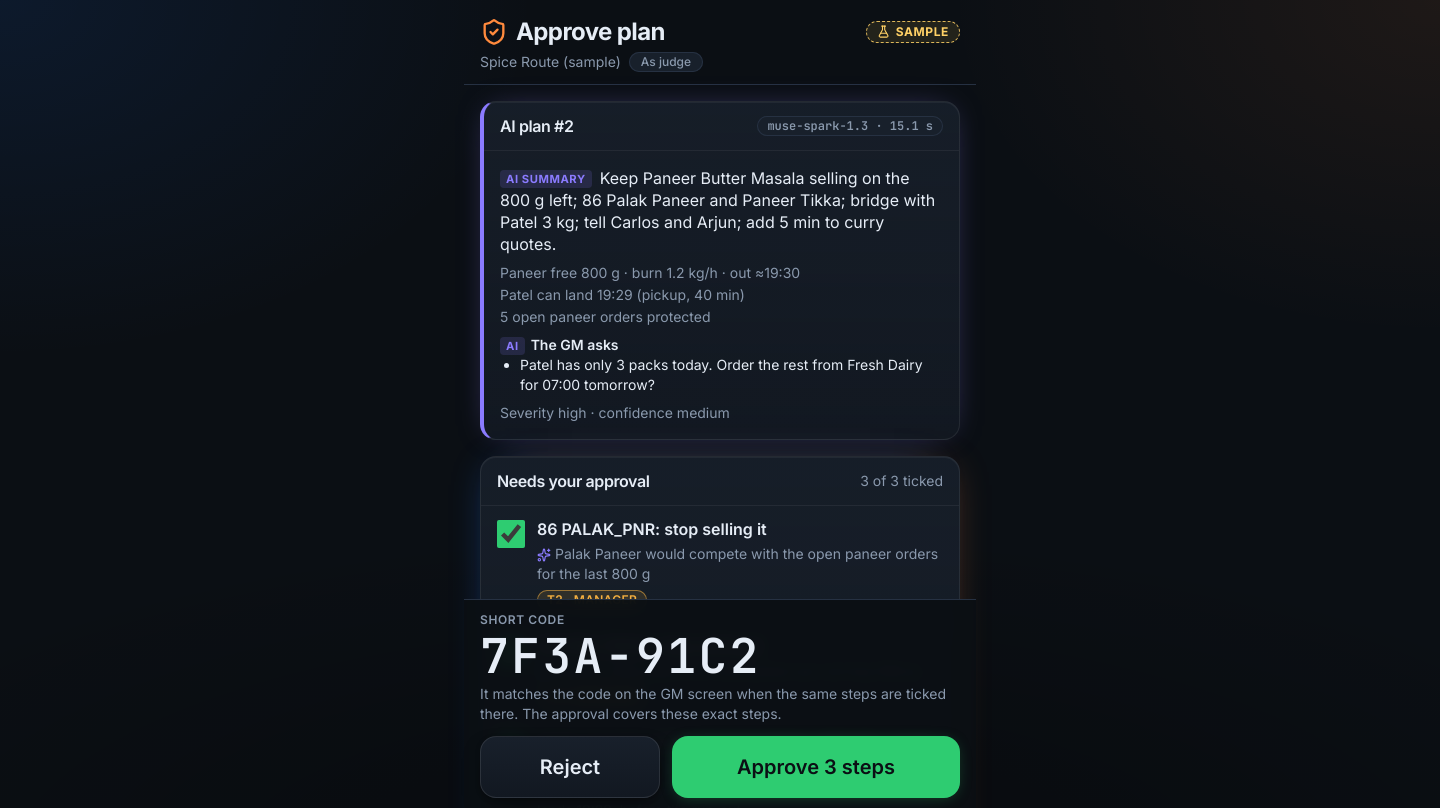
Test case: reject_sends_the_ticked_steps_with_their_digest
Click the button "Reject": (570,767) [480,736,660,798]
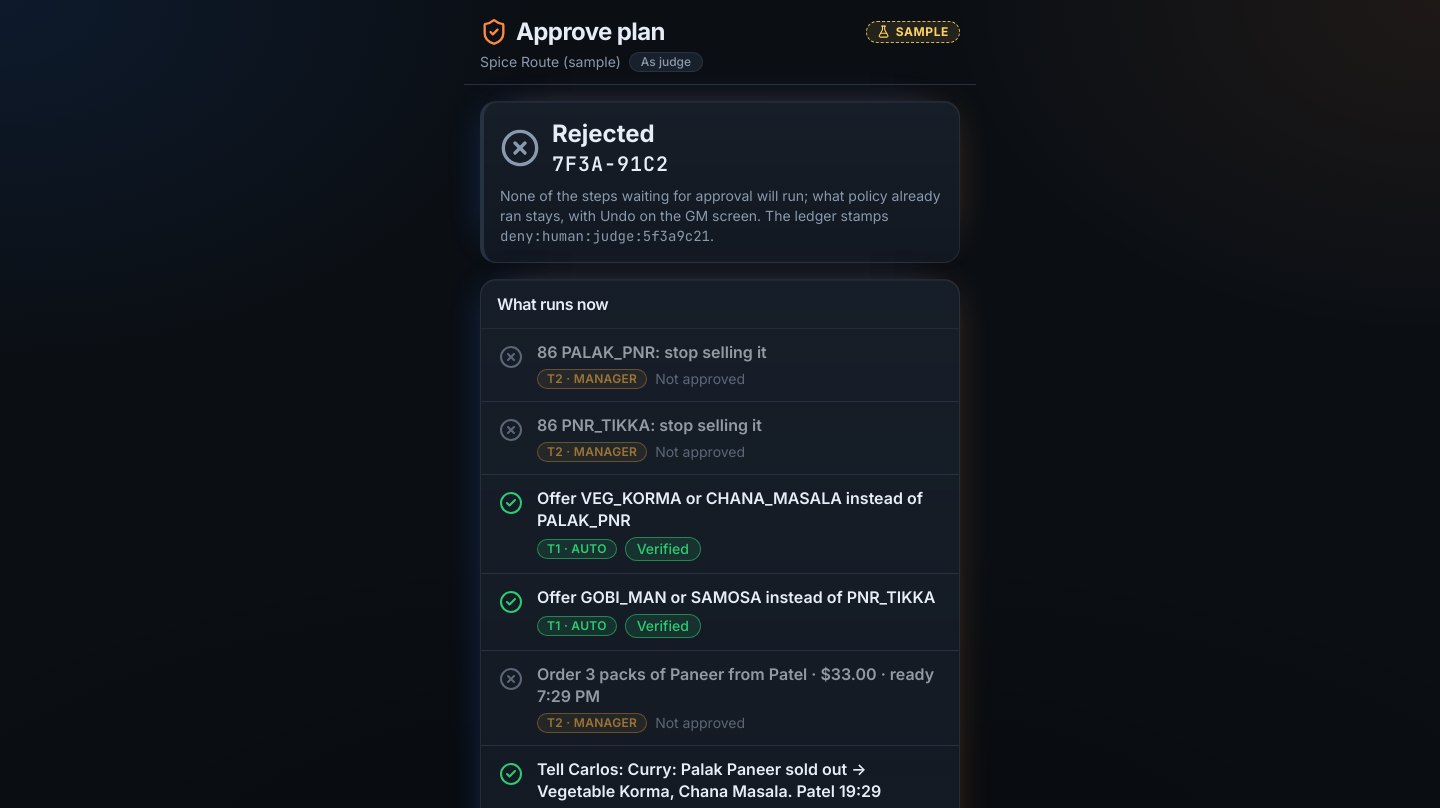
Now the message "Rejected" shows "None of the steps waiting for approval will run", box [500,187,941,224]
Now the message "Rejected" shows "deny:human:judge:5f3a9c21", box [500,227,710,245]
